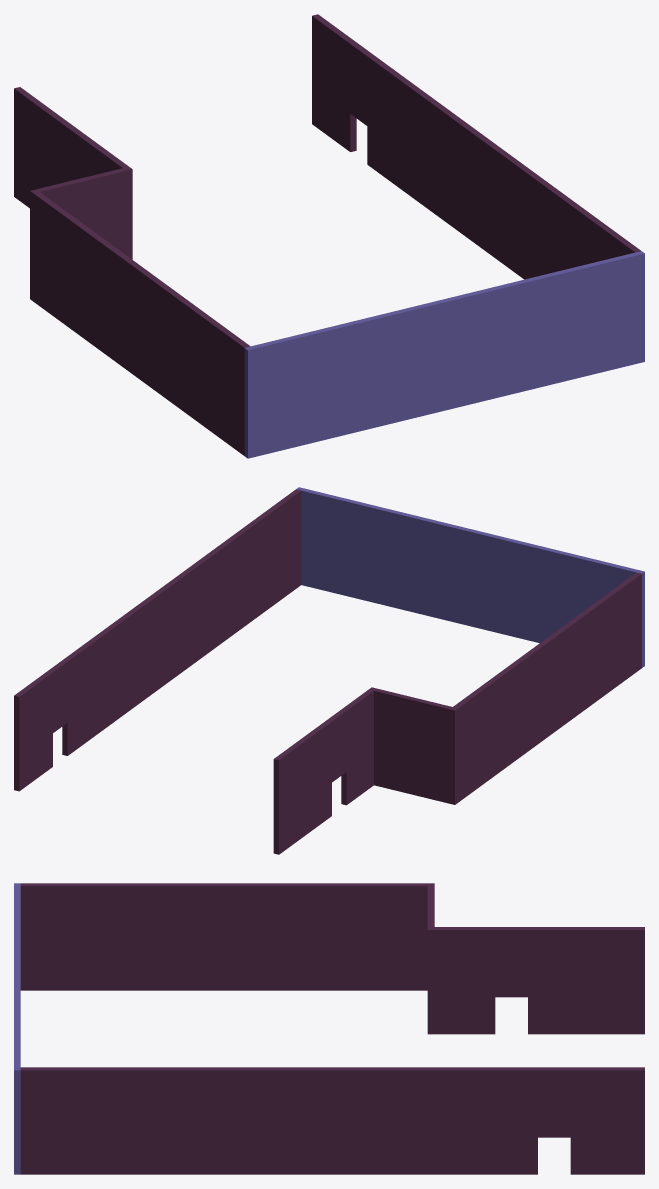
Rendered from SM_GameArea_Wall_02.fbx.
3 renders of one model, top to bottom at view 1: azimuth 30°, elevation 25°; view 2: azimuth 150°, elevation 25°; view 3: azimuth 270°, elevation 25°, orthographic. The views are drawn at different scales.
Parts seen in each view (by area): view 1: SM_GameArea_Wall_02; view 2: SM_GameArea_Wall_02; view 3: SM_GameArea_Wall_02.
Part boxes in pixels (box(x1,y1,x2,y2)): SM_GameArea_Wall_02: box(14, 14, 644, 458); SM_GameArea_Wall_02: box(14, 487, 644, 854); SM_GameArea_Wall_02: box(14, 883, 644, 1174).
Size of the model in its own units: 128 by 33.44 by 183.
